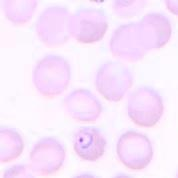Infected: (73, 125, 105, 163)
Uninfected: (109, 22, 156, 61), (94, 60, 134, 102), (127, 84, 164, 127), (35, 7, 72, 47), (116, 132, 154, 170), (33, 56, 69, 96), (67, 7, 107, 43), (30, 137, 63, 176), (65, 89, 101, 120), (140, 12, 171, 48), (0, 129, 23, 163)
